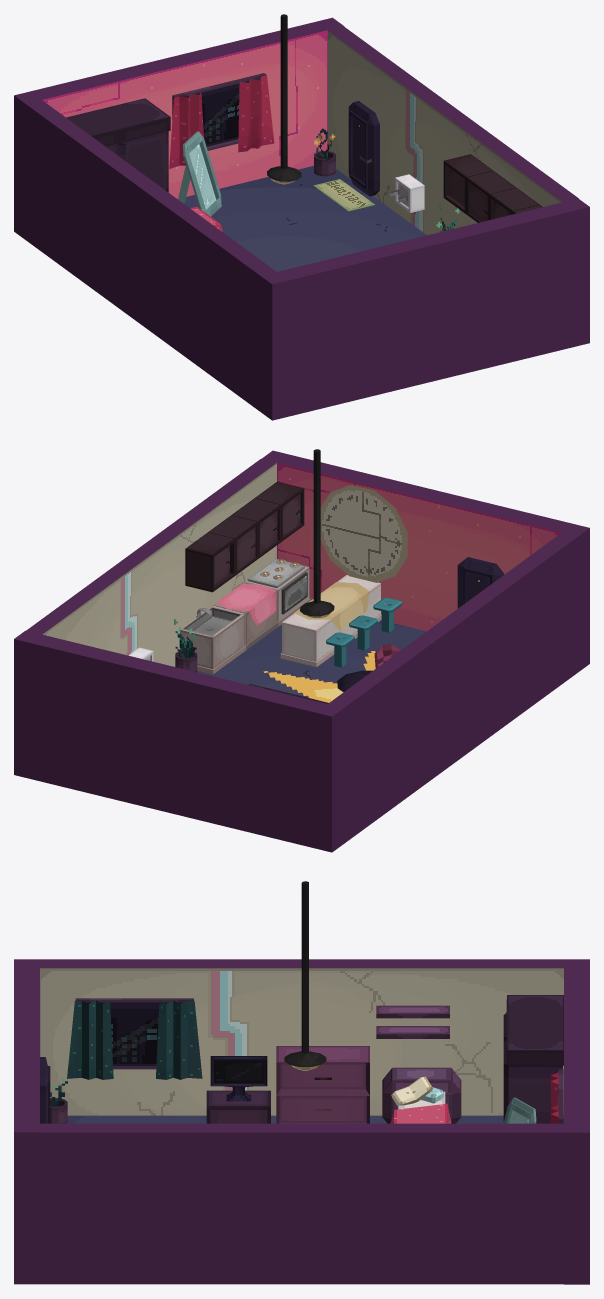
File: piso.gltf
3 views of the same model, one above another, from view 1: azimuth 30°, elevation 25°; view 2: azimuth 150°, elevation 25°; view 3: azimuth 270°, elevation 25° (orthographic). The views are drawn at different scales.
Parts seen in each view (by area): view 1: parede 2, parede 1, parede 3, parede 4, chao, armario, armarios, cortina, base (×2), porta entrada, plane, cabo (+2 smaller); view 2: parede 3, parede 1, parede 2, parede 4, mesa (×2), armarios, relogio, chao, pano da mesa (×2), banquin (×3), porta banheira, tapete estrela (+1 smaller); view 3: parede 4, parede 1, parede 2, parede 3, cabeceira, armario, cortina, plane, beveled_cuboid, tv, prateleeira, mesa (+8 smaller).
Boxes of the visible parts, box(x1,y1,x2,y2) form: parede 2: box(261, 198, 589, 420); parede 1: box(24, 99, 276, 412); parede 3: box(14, 17, 344, 238); parede 4: box(327, 25, 578, 235); chao: box(177, 166, 426, 271); armario: box(66, 98, 170, 192); armarios: box(443, 154, 542, 222); cortina: box(169, 75, 274, 168); base (×2): box(183, 131, 424, 216); porta entrada: box(348, 101, 379, 196); plane: box(184, 78, 260, 146); cabo: box(280, 14, 287, 168); parede 3: box(14, 630, 343, 852); parede 1: box(327, 532, 578, 844); parede 2: box(261, 450, 589, 671); parede 4: box(25, 459, 276, 666); mesa (×2): box(180, 559, 381, 674); armarios: box(185, 482, 304, 592); relogio: box(320, 485, 407, 582); chao: box(197, 620, 426, 697); pano da mesa (×2): box(216, 582, 369, 631); banquin (×3): box(326, 597, 402, 667); porta banheira: box(457, 557, 504, 608); tapete estrela: box(263, 651, 375, 702); parede 4: box(40, 1123, 565, 1284); parede 1: box(38, 959, 567, 1115); parede 2: box(14, 959, 39, 1284); parede 3: box(564, 959, 589, 1284); cabeceira: box(276, 1046, 369, 1123); armario: box(503, 995, 563, 1123); cortina: box(67, 1000, 202, 1079); plane: box(86, 1002, 182, 1066); beveled_cuboid: box(382, 1067, 461, 1123); tv: box(210, 1056, 267, 1101); prateleeira: box(376, 1005, 449, 1038); mesa: box(206, 1090, 270, 1123).
Bounding box in the file's own units: 11.95 × 8.56 × 14.61.
Materials: 35 (35 with a texture image).
